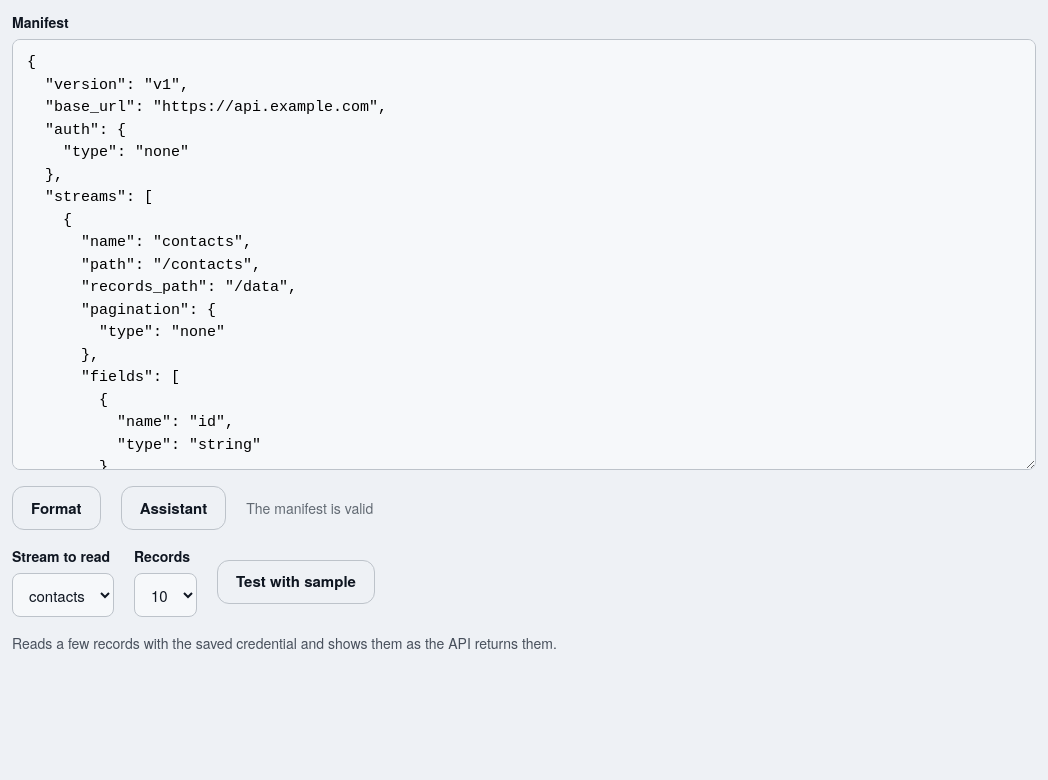
Test case: the sample › says the API returned nothing
What coordinates should you click on to do the following:
click the button "Test with sample"
I would click on:
 (296, 582)
Its box is x1=217 y1=560 x2=375 y2=604.
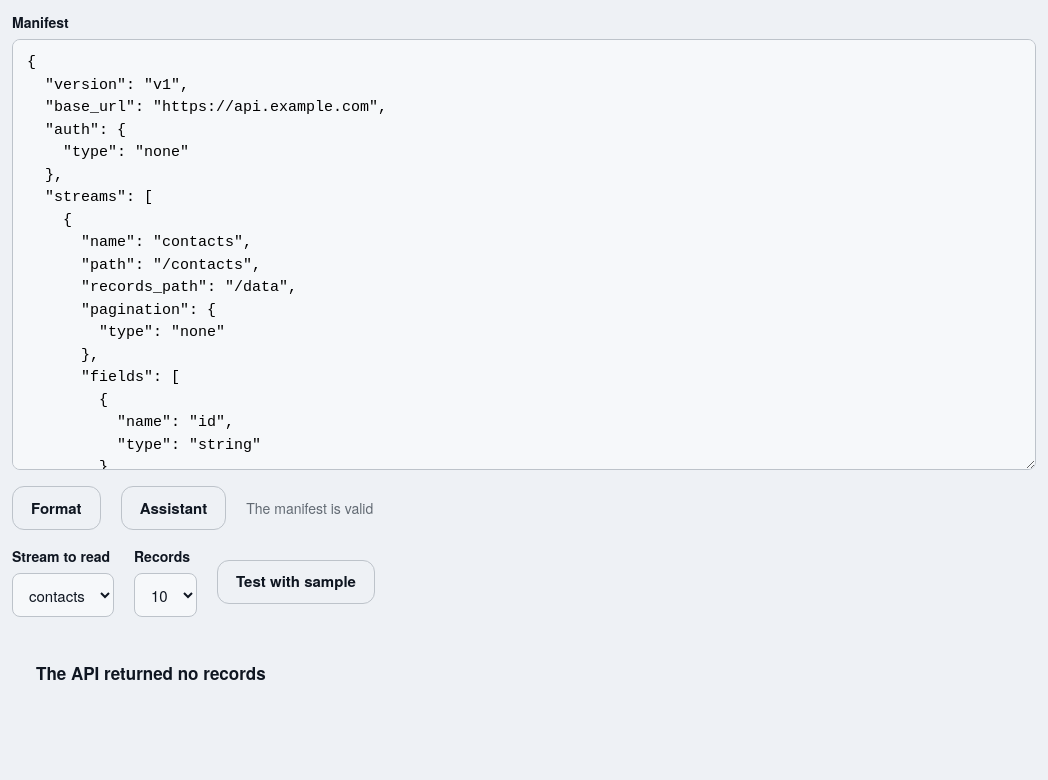
Check: the text "The API returned no records" is shown, box x1=36 y1=661 x2=266 y2=686
